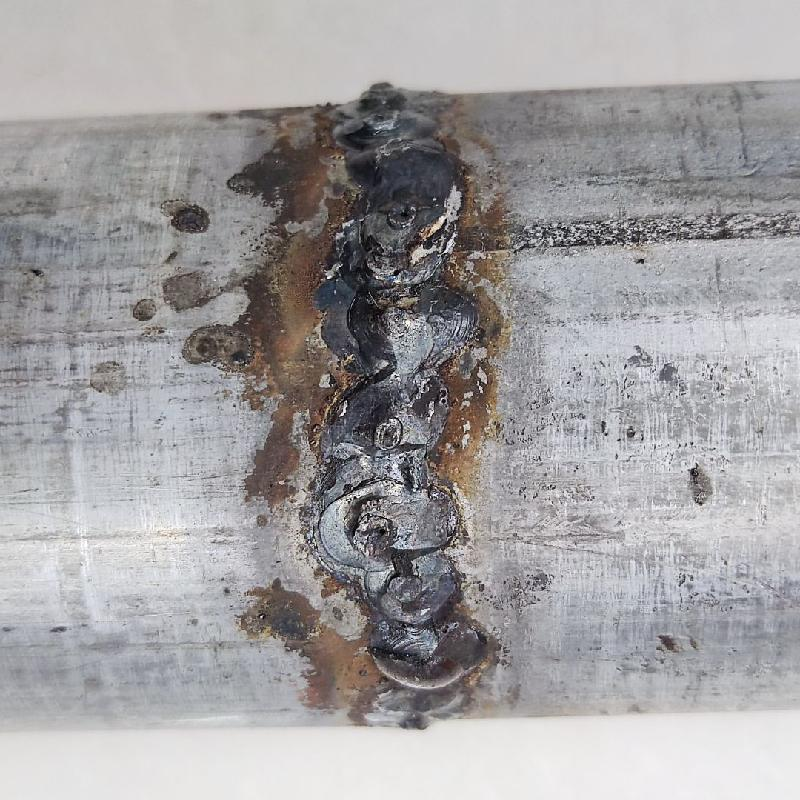Surface_pores: (347, 506, 400, 552), (368, 421, 411, 455), (383, 201, 418, 229)
Weld: (370, 641, 475, 694)
wrong_size: (312, 71, 490, 727)
